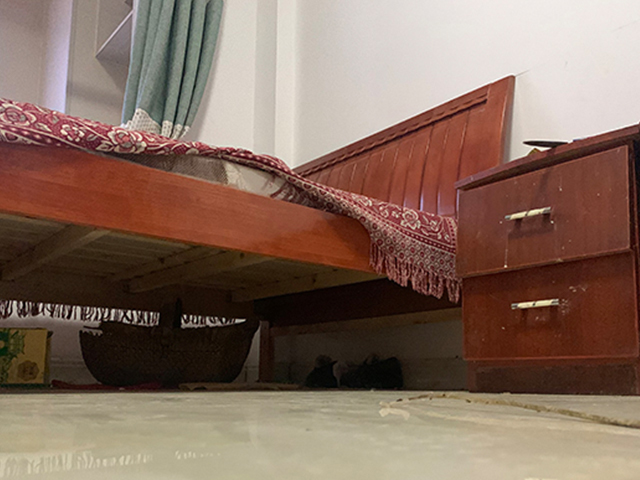bed: (1, 74, 517, 382)
cabinet: (453, 122, 640, 397)
curtain: (122, 1, 222, 148)
